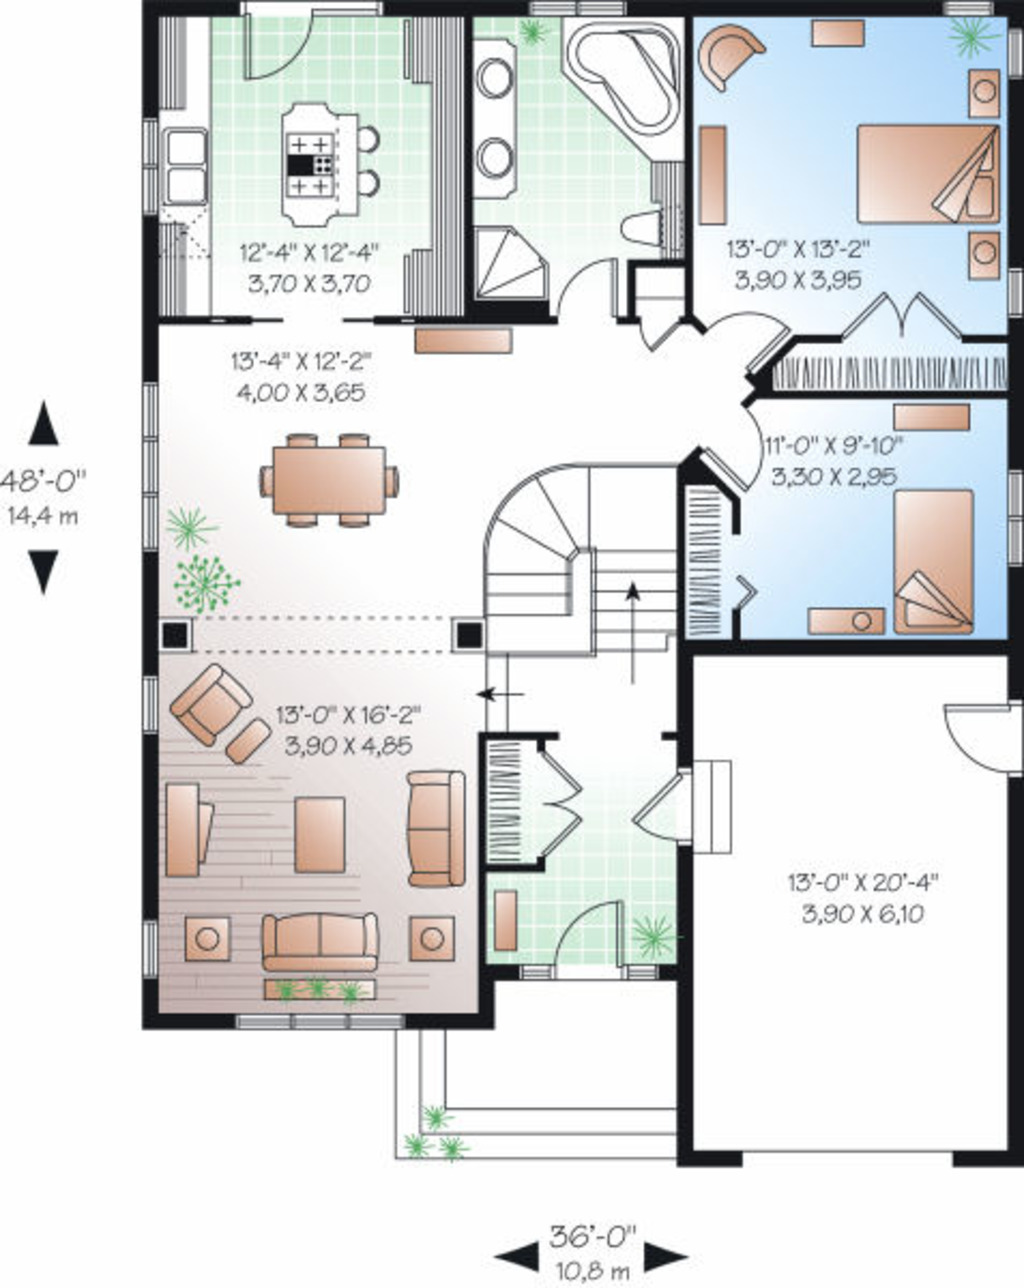bed: (846, 115, 1015, 226), (891, 483, 980, 641)
dining_table: (254, 425, 418, 539)
door: (520, 741, 600, 867), (547, 234, 635, 333), (220, 1, 322, 82), (547, 893, 632, 989), (836, 283, 968, 342), (703, 407, 784, 497), (942, 695, 1024, 774), (706, 298, 787, 371), (625, 758, 691, 846)
kitchen_bar: (268, 91, 388, 237)
large_sofa: (399, 762, 483, 897), (255, 899, 392, 974)
small_sink: (470, 49, 520, 209)
small_sofa: (158, 653, 255, 750)
stairs: (474, 448, 679, 690)
twin_sink: (163, 115, 222, 225)
window: (228, 1002, 414, 1041), (135, 379, 174, 550), (135, 657, 170, 738), (136, 918, 166, 991), (1006, 469, 1024, 584), (999, 264, 1024, 325)
